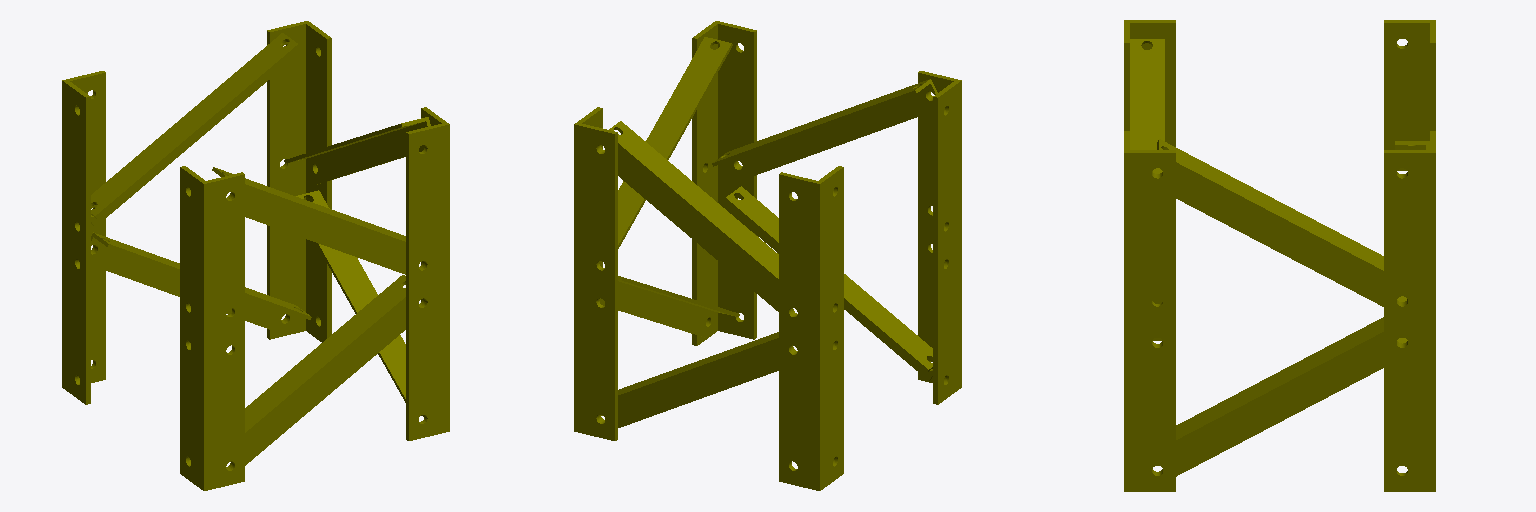
The robot description file, URDF, robot "pillar30":
<robot name = "pillar30">
	<!-- links section -->>
 <link name = "base">
		<visual>
			<origin xyz = "0 0 0" />
			<geometry>
				<cylinder radius = "0" length = "0"  />
			</geometry>
			<material name = "gray C">
				<color rgba = "0.5 0.5 0.5 1" />
			</material>
		</visual>
	</link>

 <link name = "pillar">
		<visual>
			<origin xyz = "0 0 -0.135" />
			<geometry>
				<mesh filename="./pillar30.STL" />
			</geometry>
			<material name = "gray C">
				<color rgba = "0.5 0.5 0.0 1" />
			</material>  
		</visual>
	</link>
	
<!-- joints section -->>
	<joint name = "joint1" type = "continuous">
		<parent link = "base" />
		<child link = "pillar" />
		<origin xyz = "0 0 0" />
		<axis xyz = "0 0 1" />
	</joint>

</robot>


--- What the picture shows (computed from the rendered views, not written in the file) ---
3 views of the same robot in one strip: view 1: azimuth 30°, elevation 25°; view 2: azimuth 150°, elevation 25°; view 3: azimuth 270°, elevation 25° (orthographic).
Model pillar30 with 2 links and 1 joints (1 continuous), rooted at base, posed every joint at zero.
Links seen in each view (by area): view 1: pillar; view 2: pillar; view 3: pillar.
Boxes of the visible links, left/top/right/bottom form: pillar: left=62, top=21, right=449, bottom=490; pillar: left=574, top=21, right=961, bottom=490; pillar: left=1124, top=20, right=1435, bottom=491.
Size in the robot's own frame: 0.45 by 0.45 by 0.5376 metres.
1 mesh visuals loaded from 1 distinct referenced files (1 binary STL).